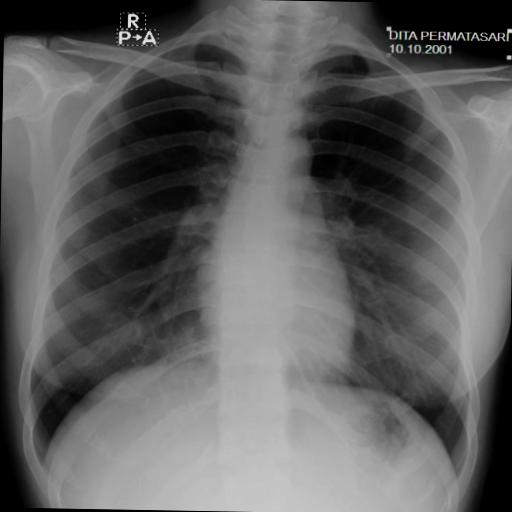normal: (10, 16, 484, 488)
